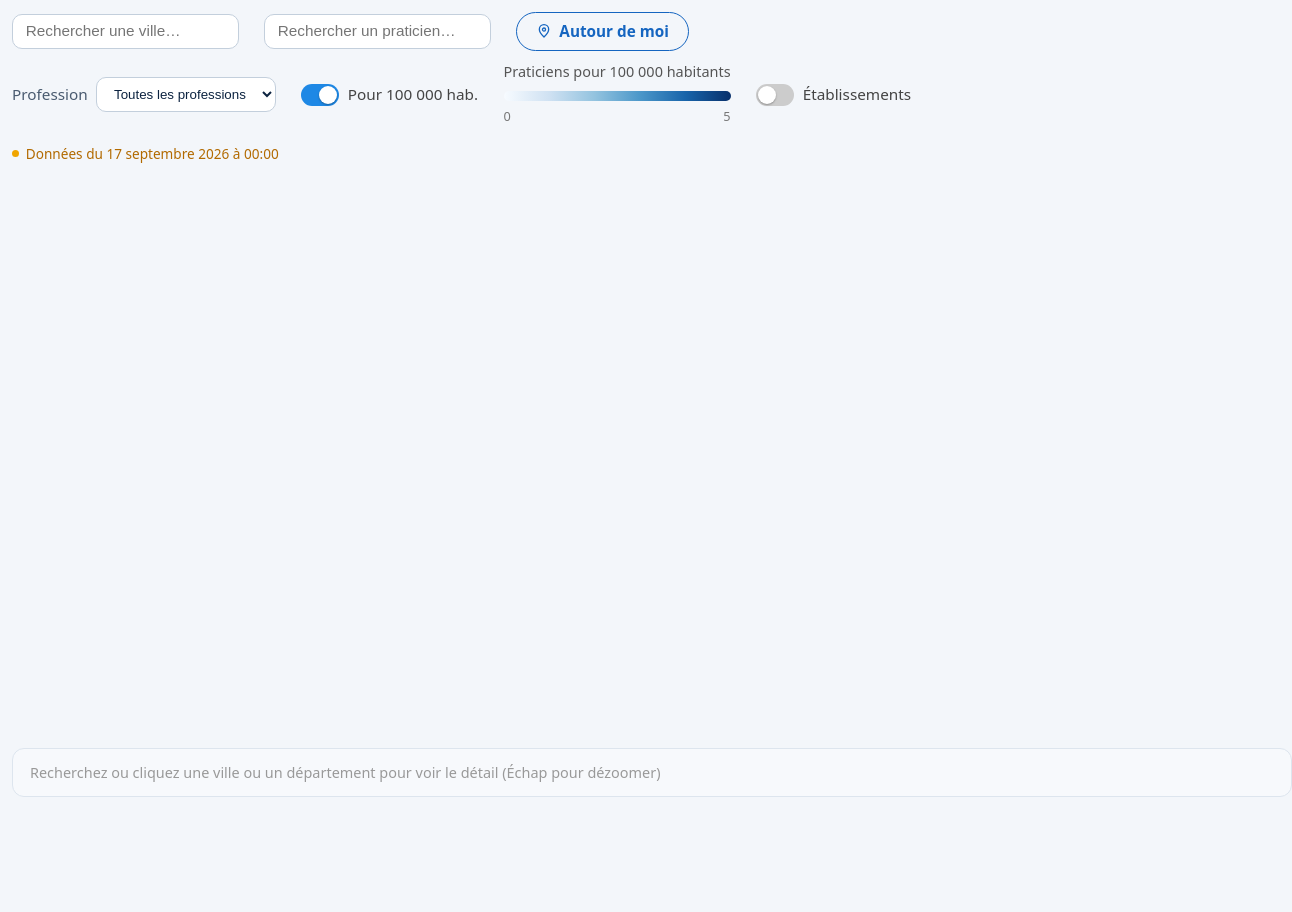
LeafletFranceMap › spécialités, densité et « autour de moi » › choisir une spécialité recolore la carte en place et affiche ses points communes
Select "Médecin" in the dropdown labelled "Profession" at (186, 95), box [96,77,276,112]
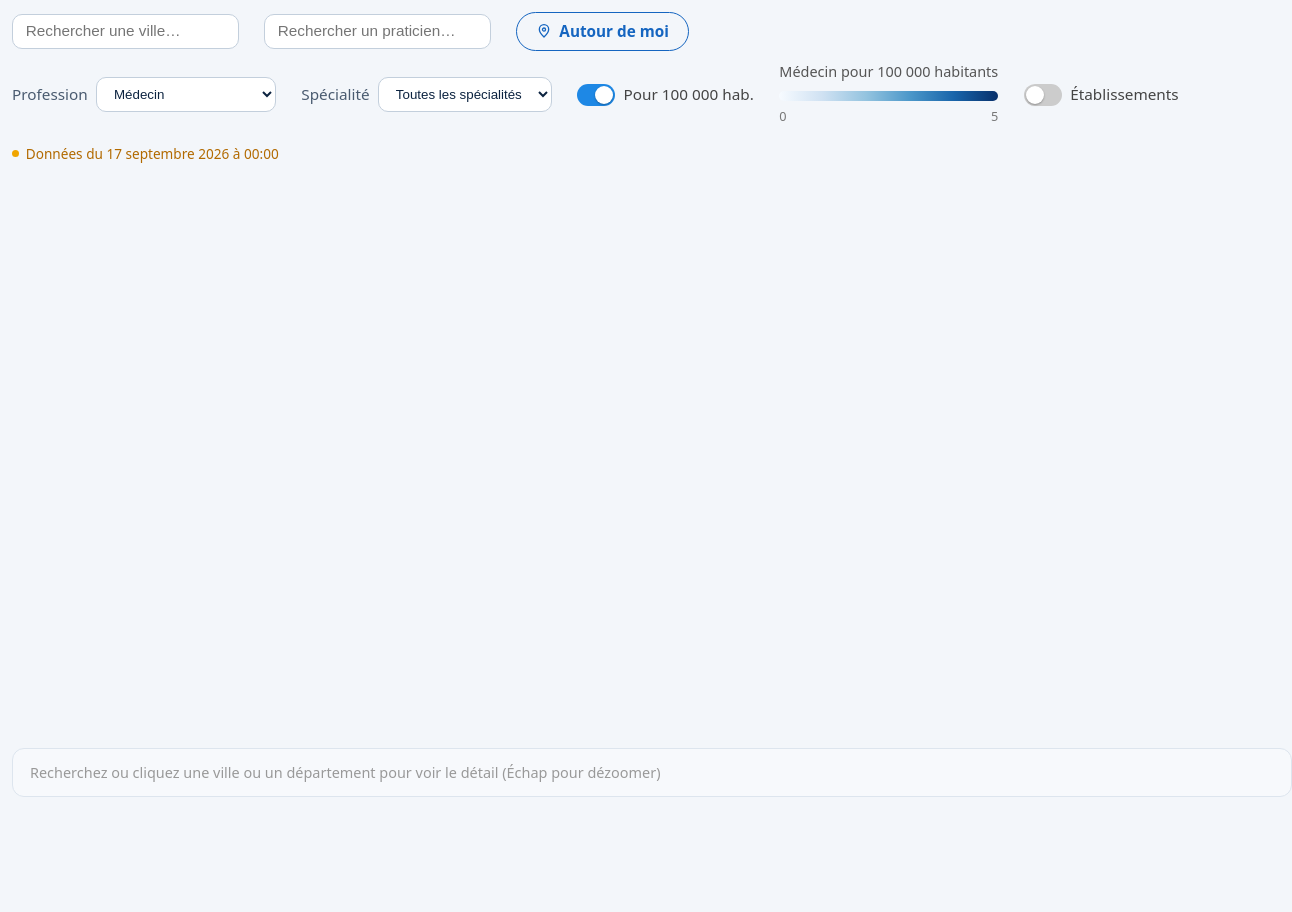
Select "Cardiologie (2)" in the dropdown labelled "Spécialité" at (465, 95), box [378,77,552,112]
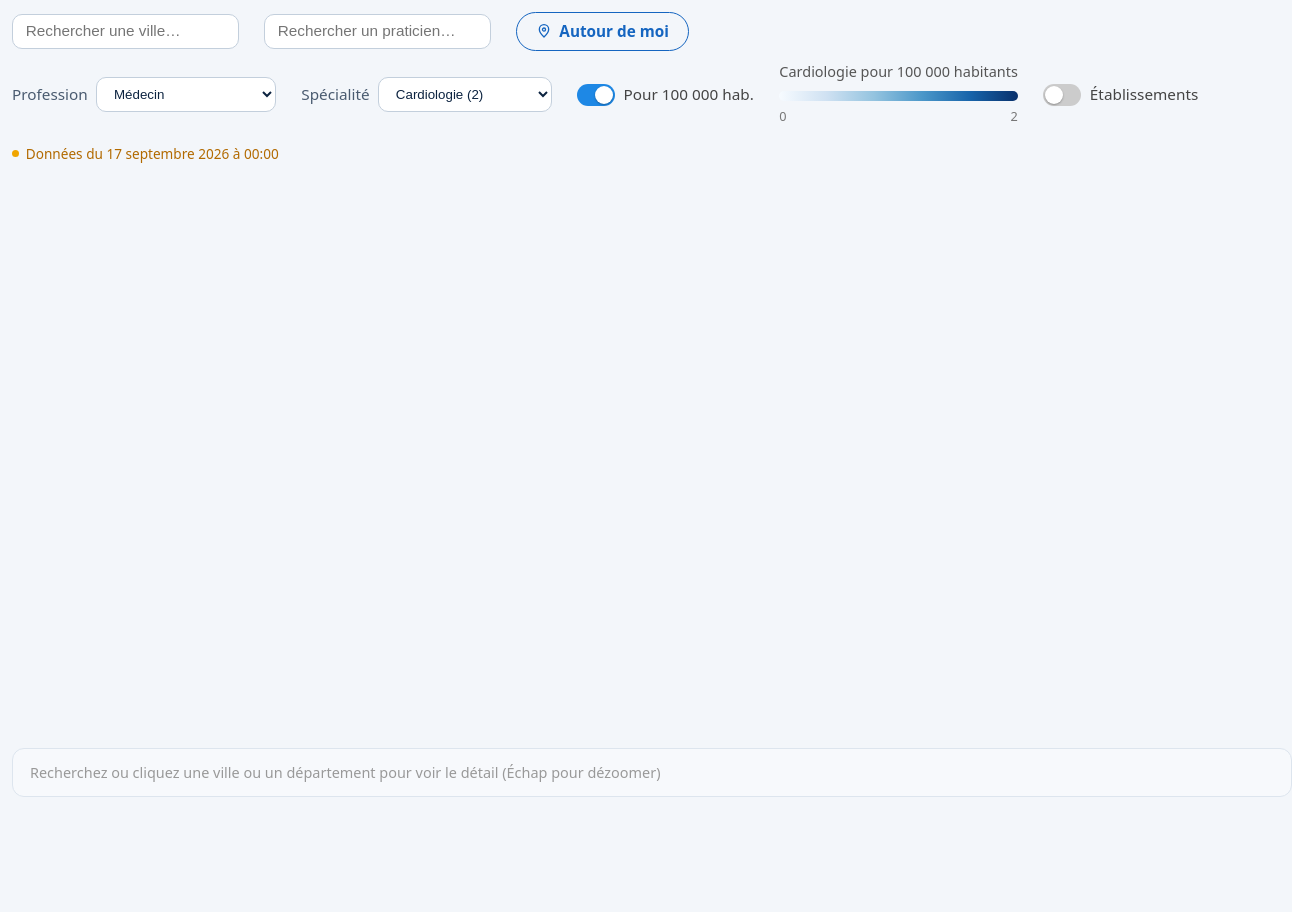
Check: the text "Cardiologie pour 100 000 habitants" is shown, box [779,59,1018,85]
